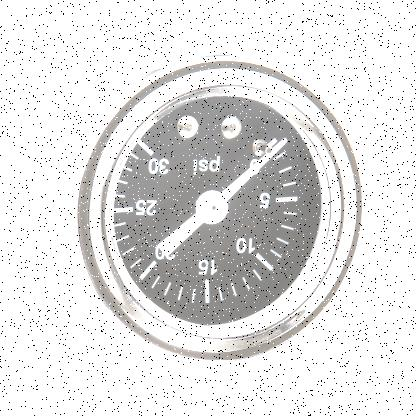needle: (220, 135, 288, 202)
